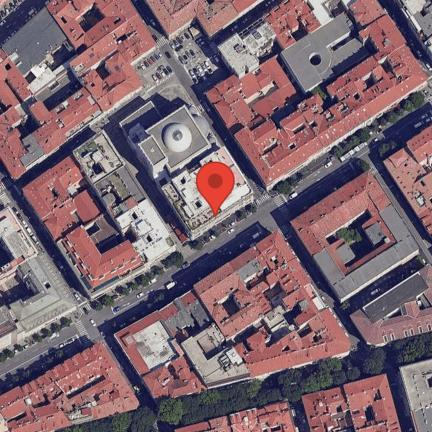area_open: (286, 10, 376, 94), (171, 26, 225, 86), (7, 12, 62, 70), (137, 45, 176, 94)
built: (117, 229, 360, 401), (21, 130, 183, 297), (122, 81, 256, 239), (288, 168, 421, 302), (208, 59, 330, 187), (0, 176, 83, 361), (0, 52, 103, 181), (307, 42, 431, 148), (0, 343, 141, 431), (193, 378, 405, 431), (72, 13, 159, 110), (214, 0, 320, 72), (351, 265, 431, 345), (386, 123, 431, 241), (47, 0, 142, 48), (146, 0, 270, 36), (357, 0, 404, 51)
vegetation_high: (79, 332, 431, 431)
